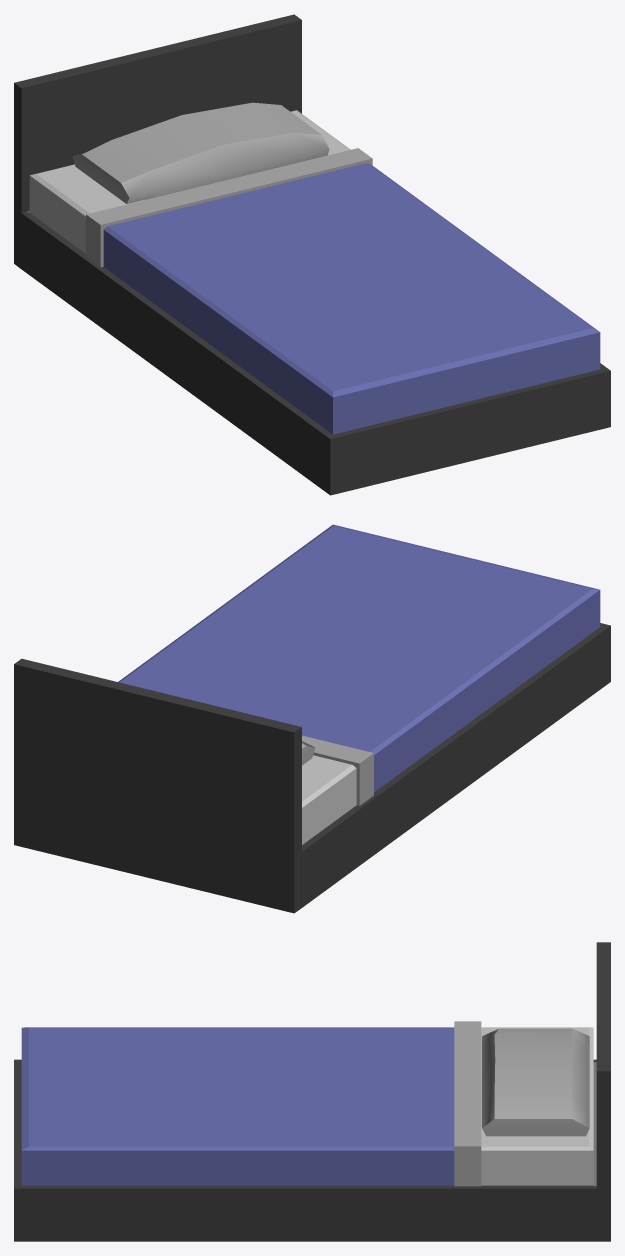
Rendered from SM_Bed.fbx.
The picture shows the model from 3 angles, top to bottom: view 1: azimuth 30°, elevation 25°; view 2: azimuth 150°, elevation 25°; view 3: azimuth 270°, elevation 25°; orthographic projection. The views are drawn at different scales.
Visible parts, largest first — view 1: pCube1, pCube4, pCube3, pCube2; view 2: pCube1, pCube4, pCube2; view 3: pCube1, pCube3, pCube2, pCube4.
Part boxes in pixels (x1,y1,x2,y2): pCube1: (17,110,610,495); pCube4: (14,14,301,265); pCube3: (72,102,329,203); pCube2: (86,148,372,267); pCube1: (118,524,610,910); pCube4: (14,658,301,913); pCube2: (302,735,373,805); pCube1: (14,1027,603,1241); pCube3: (482,1028,589,1136); pCube2: (454,1021,481,1186); pCube4: (596,942,610,1241).
Size of the model in its own units: 5.92 by 3.65 by 11.58.
